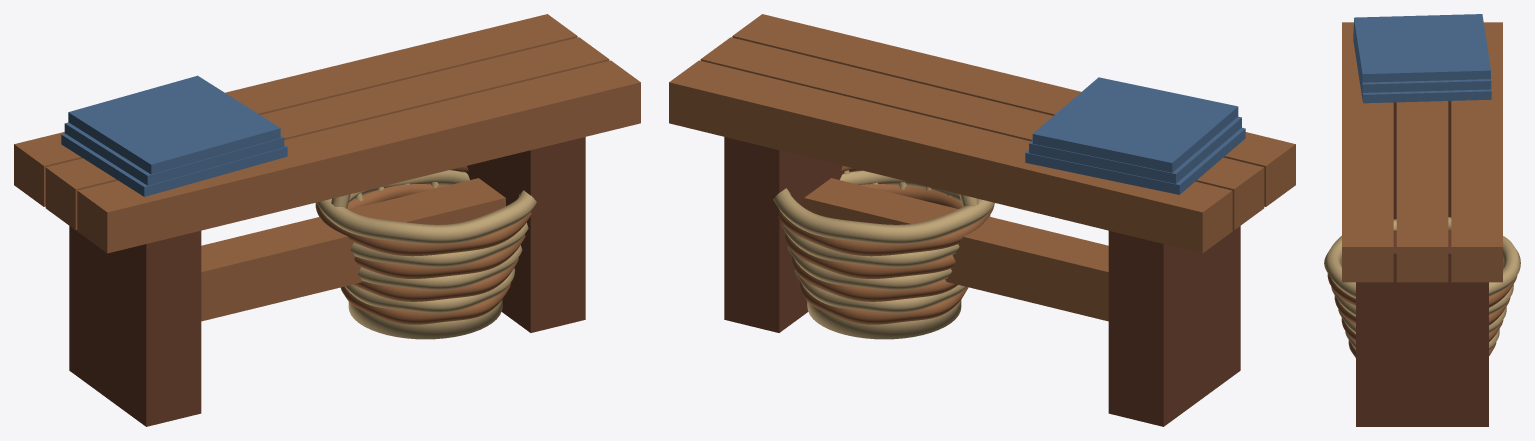
Rendered from 04_Bench_With_Basket.glb.
3 views of the same model, side by side, from view 1: azimuth 30°, elevation 25°; view 2: azimuth 150°, elevation 25°; view 3: azimuth 270°, elevation 25° (orthographic). The views are drawn at different scales.
Visible parts, largest first — view 1: Cedar seat plank, Bench leg, Brace, Bench leg.001, Cedar seat plank.001, Cedar seat plank.002, Folded indigo cloth.002, Basket weave.007, Basket weave.004, Basket weave.005, Folded indigo cloth, Folded indigo cloth.001 (+6 smaller); view 2: Cedar seat plank.002, Bench leg, Brace, Bench leg.001, Cedar seat plank.001, Cedar seat plank, Folded indigo cloth.002, Basket weave.007, Basket weave.004, Basket weave.005, Folded indigo cloth, Folded indigo cloth.001 (+6 smaller); view 3: Bench leg.001, Cedar seat plank.002, Cedar seat plank, Cedar seat plank.001, Folded indigo cloth.002, Basket weave.007, Folded indigo cloth, Folded indigo cloth.001, Bench leg, Basket weave.006, Basket weave.005, Basket weave.004 (+2 smaller).
Part boxes in pixels (box(x1,y1,x2,y2)): Cedar seat plank: box(77, 60, 640, 253); Bench leg: box(69, 226, 201, 426); Brace: box(201, 178, 505, 321); Bench leg.001: box(466, 137, 585, 332); Cedar seat plank.001: box(45, 37, 609, 230); Cedar seat plank.002: box(14, 14, 577, 206); Folded indigo cloth.002: box(68, 75, 280, 174); Basket weave.007: box(316, 190, 536, 244); Basket weave.004: box(347, 184, 525, 278); Basket weave.005: box(348, 170, 528, 267); Folded indigo cloth: box(61, 133, 287, 196); Folded indigo cloth.001: box(64, 122, 284, 185); Cedar seat plank.002: box(669, 60, 1232, 253); Bench leg: box(1108, 226, 1240, 426); Brace: box(804, 178, 1108, 321); Bench leg.001: box(724, 137, 843, 332); Cedar seat plank.001: box(700, 37, 1264, 230); Cedar seat plank: box(732, 14, 1295, 206); Folded indigo cloth.002: box(1032, 77, 1238, 172); Basket weave.007: box(773, 188, 994, 244); Basket weave.004: box(784, 184, 962, 278); Basket weave.005: box(781, 170, 990, 267); Folded indigo cloth: box(1025, 127, 1245, 194); Folded indigo cloth.001: box(1029, 116, 1241, 183); Bench leg.001: box(1356, 230, 1488, 426); Cedar seat plank.002: box(1451, 22, 1502, 282); Cedar seat plank: box(1342, 22, 1393, 282); Cedar seat plank.001: box(1396, 101, 1448, 282); Folded indigo cloth.002: box(1354, 14, 1490, 82); Basket weave.007: box(1324, 217, 1520, 298); Folded indigo cloth: box(1353, 32, 1491, 103); Folded indigo cloth.001: box(1353, 25, 1491, 92); Bench leg: box(1393, 101, 1451, 219); Basket weave.006: box(1327, 259, 1517, 307); Basket weave.005: box(1331, 284, 1513, 316); Basket weave.004: box(1334, 295, 1510, 325).
Size of the model in its own units: 1.36 by 0.639 by 0.504.
